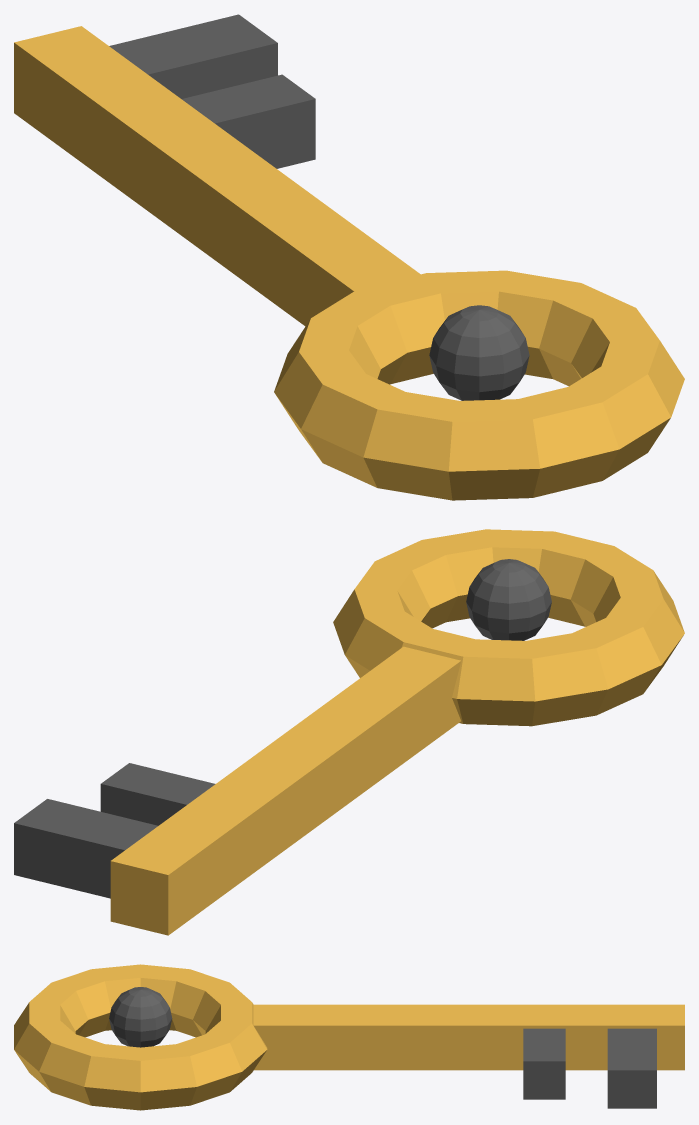
The model's file is parkour_held.gltf.
The picture shows the model from 3 angles, top to bottom: view 1: azimuth 30°, elevation 25°; view 2: azimuth 150°, elevation 25°; view 3: azimuth 270°, elevation 25°; orthographic projection. The views are drawn at different scales.
Visible parts, largest first — view 1: keys_parkour_held; view 2: keys_parkour_held; view 3: keys_parkour_held.
Part boxes in pixels (box(x1,y1,x2,y2)): keys_parkour_held: box(14, 14, 684, 500); keys_parkour_held: box(14, 529, 684, 935); keys_parkour_held: box(14, 964, 684, 1110).
Bounding box in the file's own units: 0.074 × 0.0228 × 0.1911.
